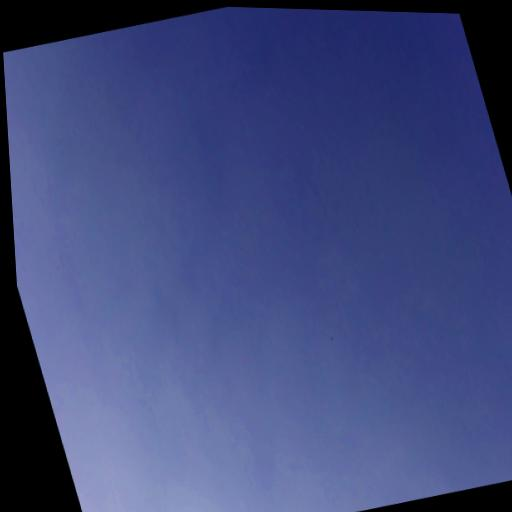drones: (329, 335, 335, 342)
